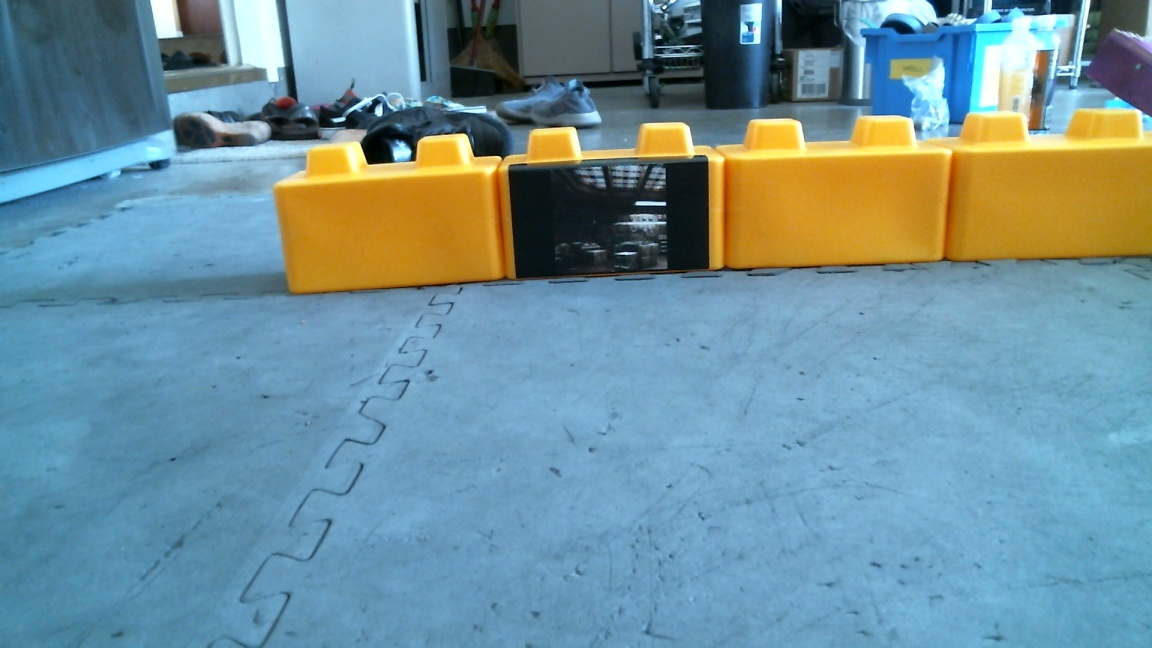center: (271, 116, 945, 303)
left: (492, 106, 1150, 285)
